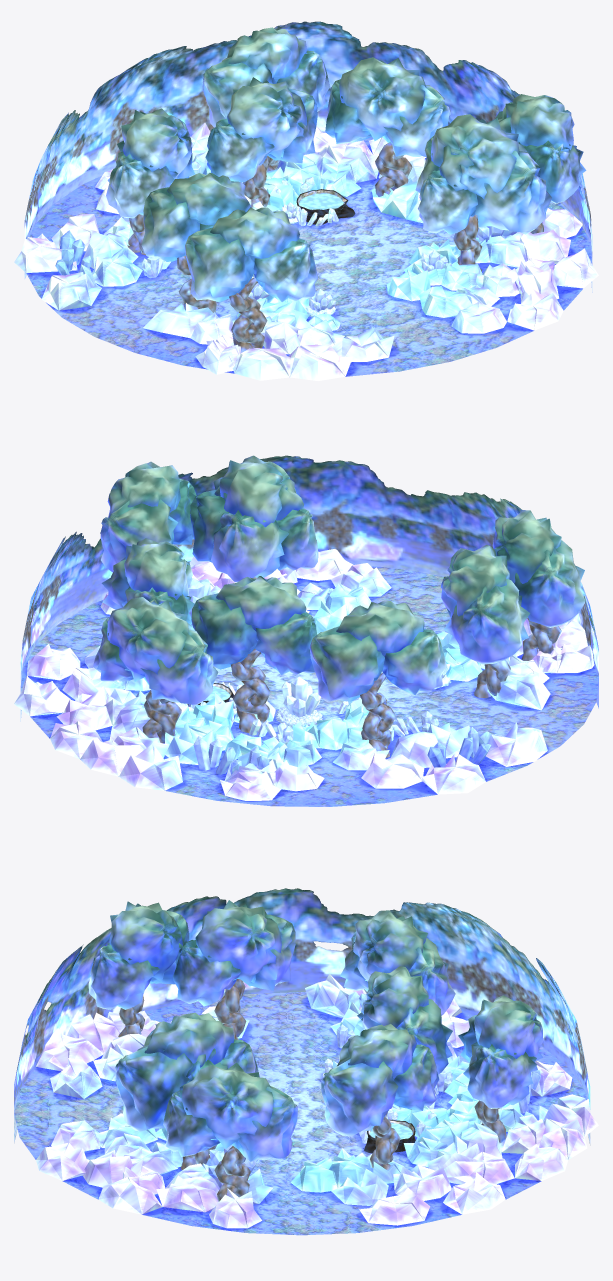
Rendered from CrystalForest_02_Main.glb.
3 views of the same model, one above another, from view 1: azimuth 30°, elevation 25°; view 2: azimuth 150°, elevation 25°; view 3: azimuth 270°, elevation 25° (orthographic).
Visible parts, largest first — view 1: C06_Tree_Leaf, C02_Crystal02, C01_Ground, B01_DistanceView, C07_Tree_Stem, C02_Crystal01, C04_Wood, C05_Water; view 2: C06_Tree_Leaf, C02_Crystal02, C01_Ground, B01_DistanceView, C07_Tree_Stem, C02_Crystal01; view 3: C06_Tree_Leaf, C02_Crystal02, C01_Ground, B01_DistanceView, C07_Tree_Stem, C02_Crystal01.
Boxes of the visible parts, x1,y1,x2,y2 form: C06_Tree_Leaf: [106, 27, 586, 302]; C02_Crystal02: [14, 122, 598, 380]; C01_Ground: [26, 140, 592, 376]; B01_DistanceView: [24, 21, 592, 292]; C07_Tree_Stem: [127, 142, 543, 352]; C02_Crystal01: [55, 152, 516, 317]; C04_Wood: [296, 189, 355, 224]; C05_Water: [299, 193, 343, 209]; C06_Tree_Leaf: [93, 455, 585, 706]; C02_Crystal02: [14, 549, 594, 800]; C01_Ground: [20, 564, 598, 806]; B01_DistanceView: [20, 455, 598, 721]; C07_Tree_Stem: [142, 577, 561, 758]; C02_Crystal01: [183, 578, 491, 774]; C06_Tree_Leaf: [88, 900, 543, 1161]; C02_Crystal02: [36, 974, 598, 1228]; C01_Ground: [14, 992, 586, 1235]; B01_DistanceView: [14, 888, 590, 1145]; C07_Tree_Stem: [118, 979, 506, 1201]; C02_Crystal01: [208, 991, 540, 1178].
Size of the model in its own units: 30 by 10.87 by 30.46.
7 materials, 7 textured.
